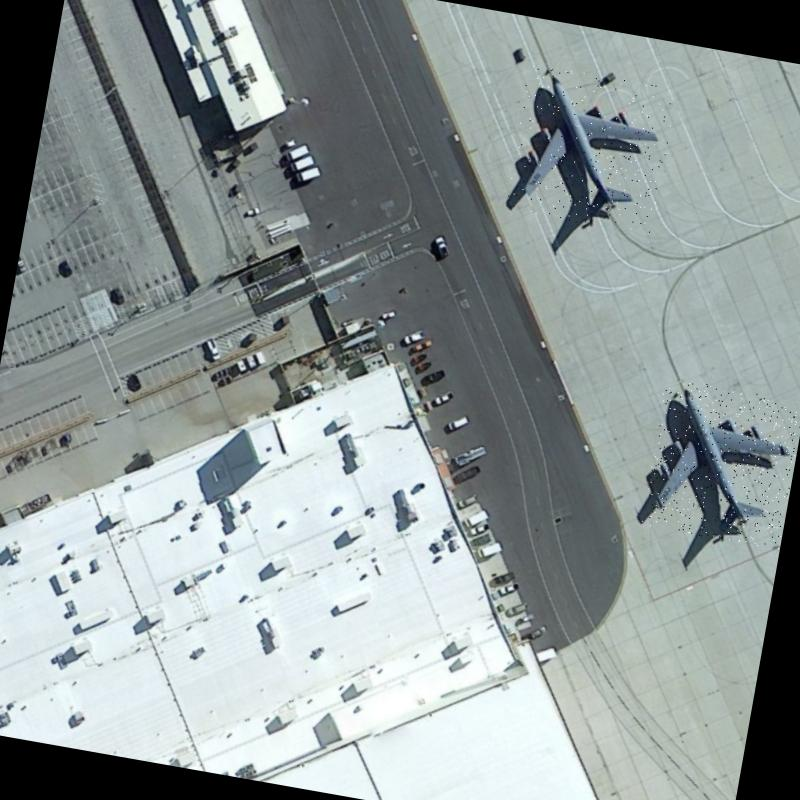A14: (504, 64, 678, 237), (640, 377, 800, 550)
